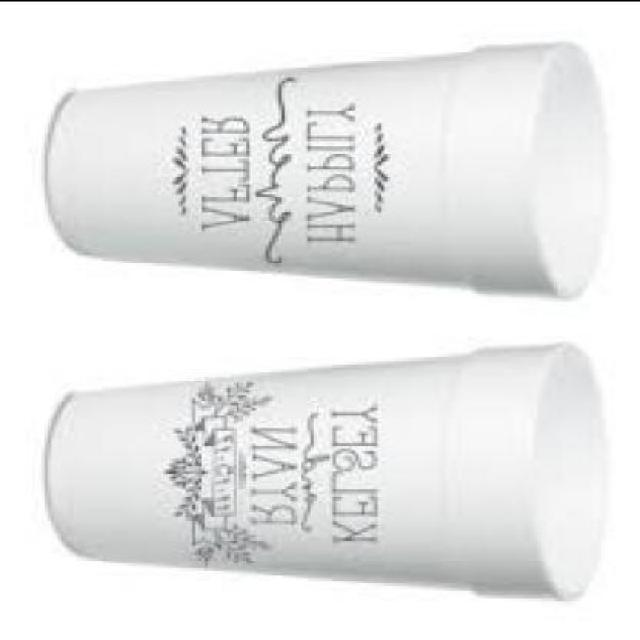PAPER: (48, 44, 614, 302), (48, 346, 610, 600)
